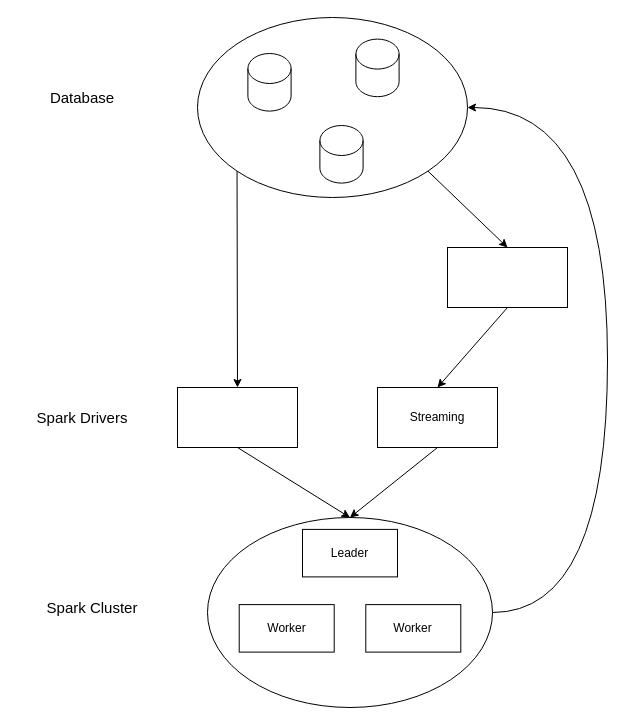
The diagram is 625 pixels wide and 725 high, and some of its shapes have lost their labels. Each missing label, with the centre of its shape:
Historical: (237,417)
Message Queue: (507,277)
